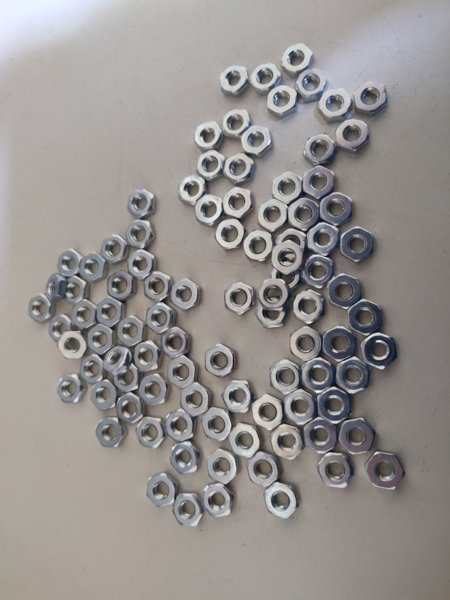nut: (365, 450, 405, 490), (304, 416, 344, 456), (336, 117, 374, 155), (341, 417, 380, 454), (360, 332, 399, 369), (299, 355, 335, 395), (285, 196, 324, 232), (318, 453, 356, 489), (264, 483, 302, 519), (270, 423, 305, 461), (318, 386, 353, 423), (265, 83, 300, 120), (247, 449, 279, 489), (348, 301, 384, 336), (303, 163, 339, 198), (250, 395, 284, 432), (337, 361, 373, 395), (354, 79, 388, 115), (229, 421, 261, 459), (272, 241, 306, 276), (204, 343, 237, 379), (218, 62, 250, 99), (270, 357, 300, 396), (224, 281, 258, 315), (139, 373, 172, 408), (342, 228, 374, 264), (318, 193, 354, 225), (258, 278, 290, 313), (55, 329, 90, 361), (283, 390, 314, 426), (296, 66, 327, 102), (170, 278, 201, 314), (303, 133, 336, 166), (318, 88, 350, 122), (308, 222, 339, 257), (201, 406, 232, 441), (281, 42, 312, 77), (325, 326, 355, 362), (244, 227, 274, 263), (204, 484, 236, 517), (160, 326, 192, 359), (146, 472, 176, 507), (116, 313, 146, 348), (88, 376, 118, 411), (331, 275, 363, 307), (241, 125, 274, 156), (131, 341, 164, 372), (222, 379, 252, 413), (207, 449, 237, 483), (250, 60, 280, 94), (215, 218, 244, 253), (195, 193, 224, 228), (174, 492, 202, 528), (177, 173, 208, 205), (182, 384, 212, 417), (108, 269, 138, 302), (143, 271, 172, 305), (297, 289, 325, 324), (224, 186, 252, 221), (169, 354, 197, 389), (290, 328, 321, 359), (167, 408, 194, 443), (96, 419, 127, 449), (127, 188, 157, 219), (71, 299, 101, 330), (225, 151, 254, 183), (169, 446, 201, 475), (305, 256, 333, 289), (258, 199, 287, 230), (116, 394, 145, 425), (278, 226, 306, 258), (79, 250, 105, 284), (259, 297, 288, 327), (128, 219, 157, 249), (46, 313, 75, 343), (273, 172, 301, 203), (100, 235, 128, 266), (103, 344, 131, 375), (223, 107, 250, 139), (137, 417, 164, 449), (27, 290, 53, 323), (274, 263, 302, 293), (95, 298, 123, 328), (86, 322, 112, 354), (114, 358, 139, 391), (79, 353, 105, 384), (58, 373, 82, 406), (62, 274, 90, 302), (129, 247, 153, 279), (146, 303, 172, 332), (193, 120, 220, 147), (56, 248, 80, 275), (197, 148, 219, 177)
